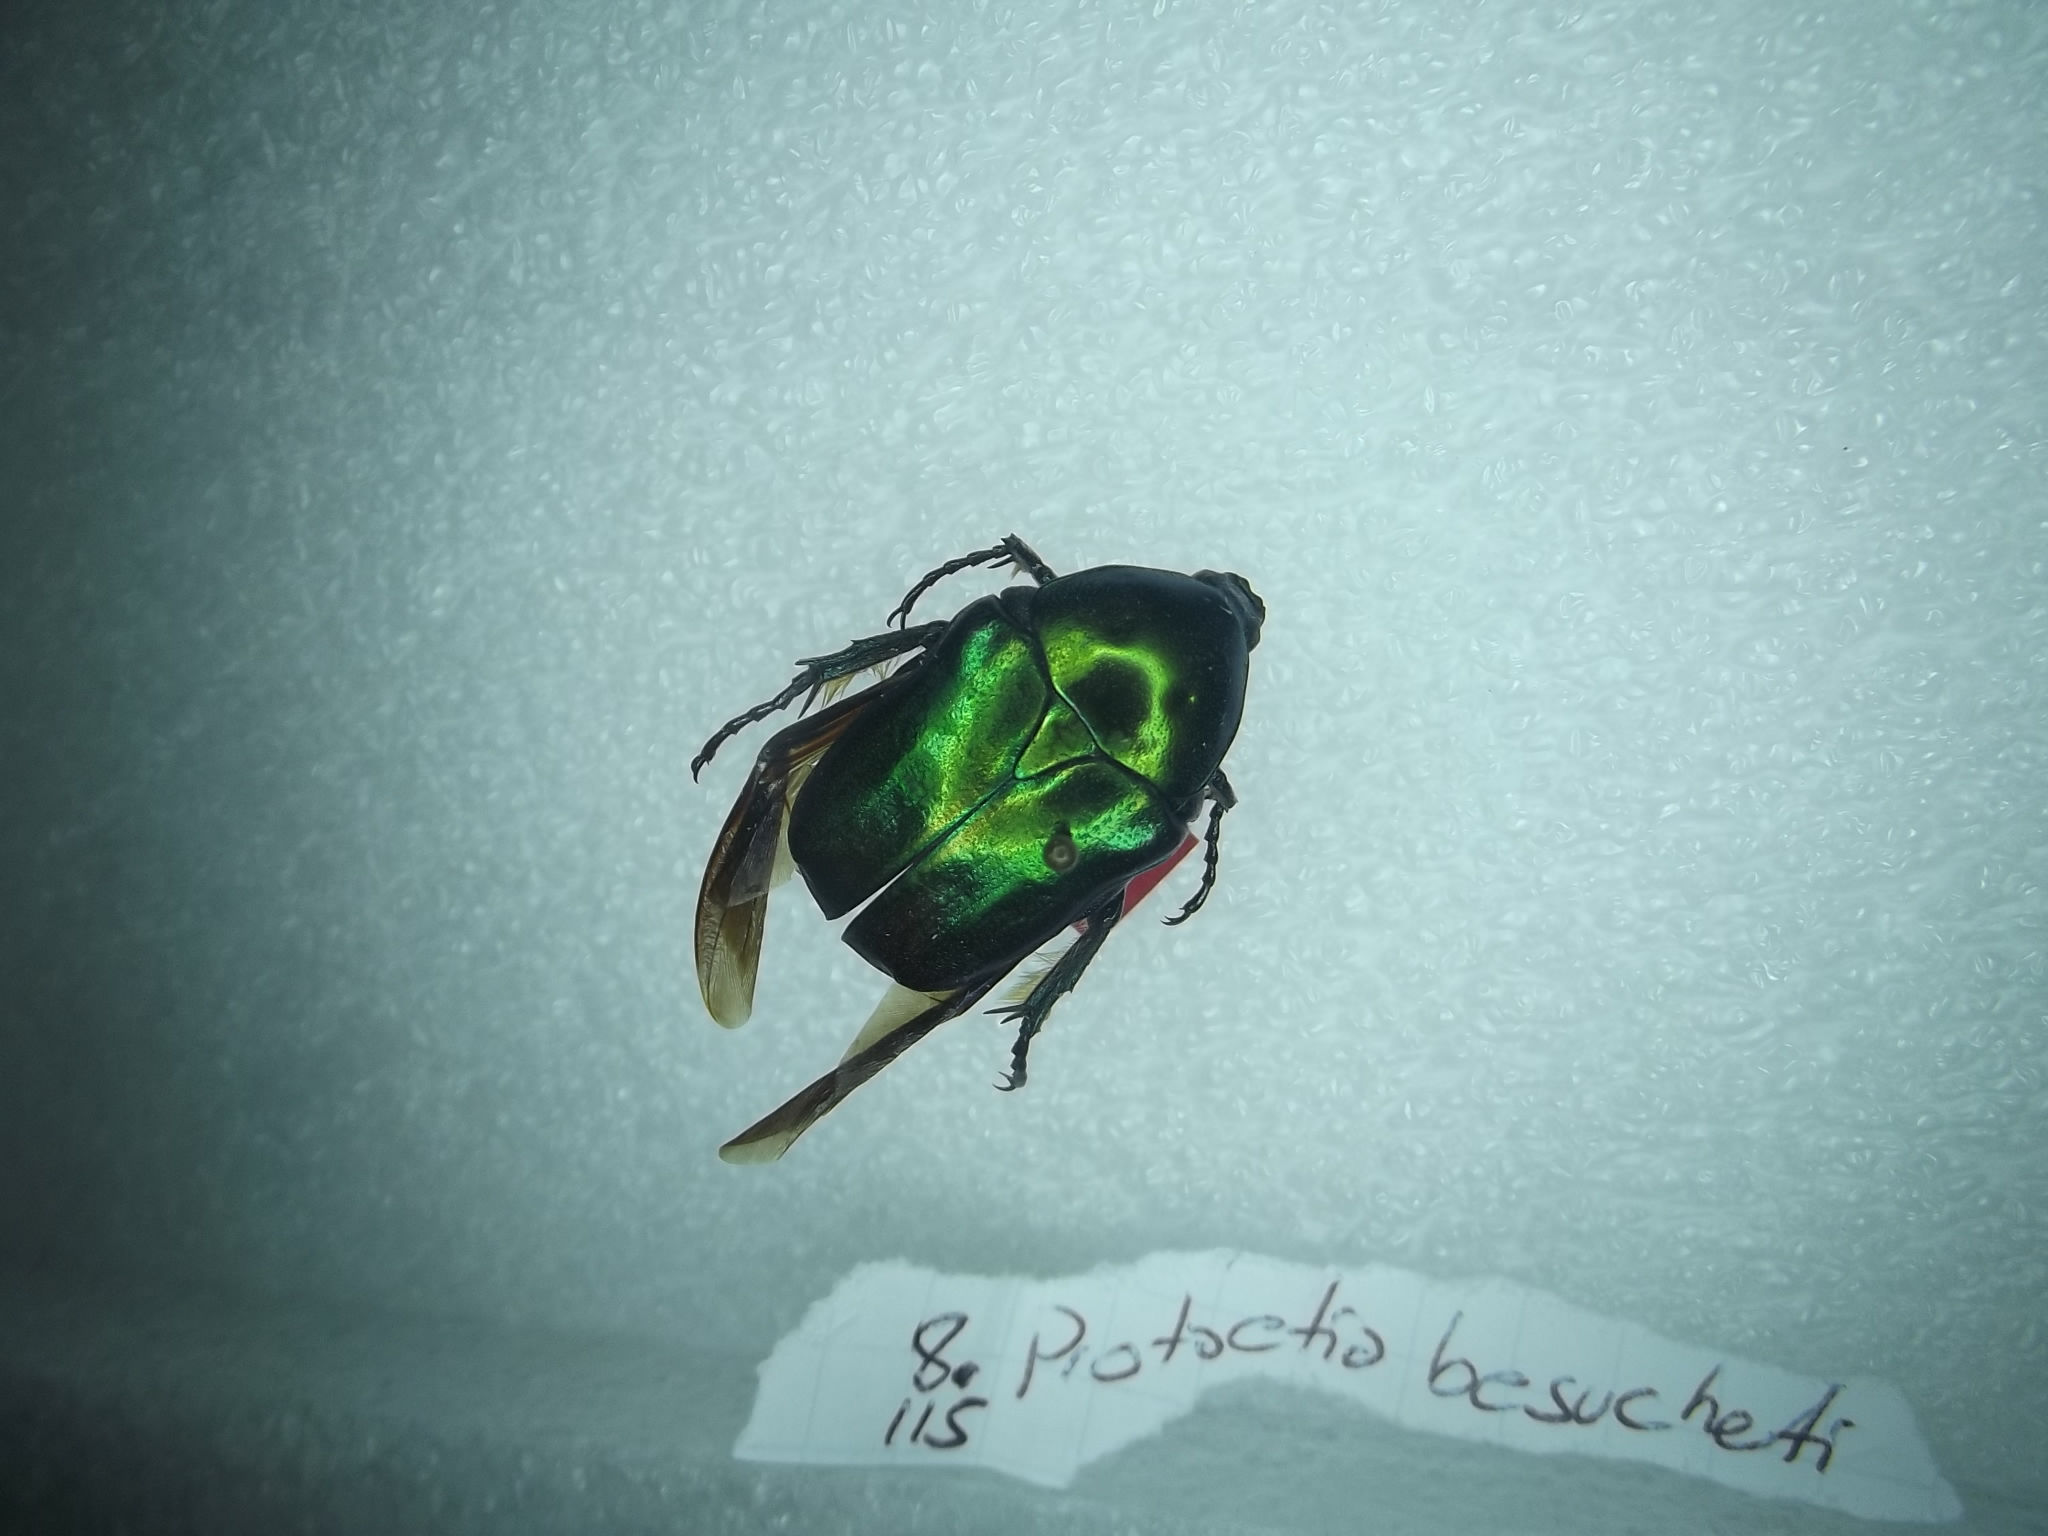Protaetia_besucheti: (681, 494, 1303, 1183)
